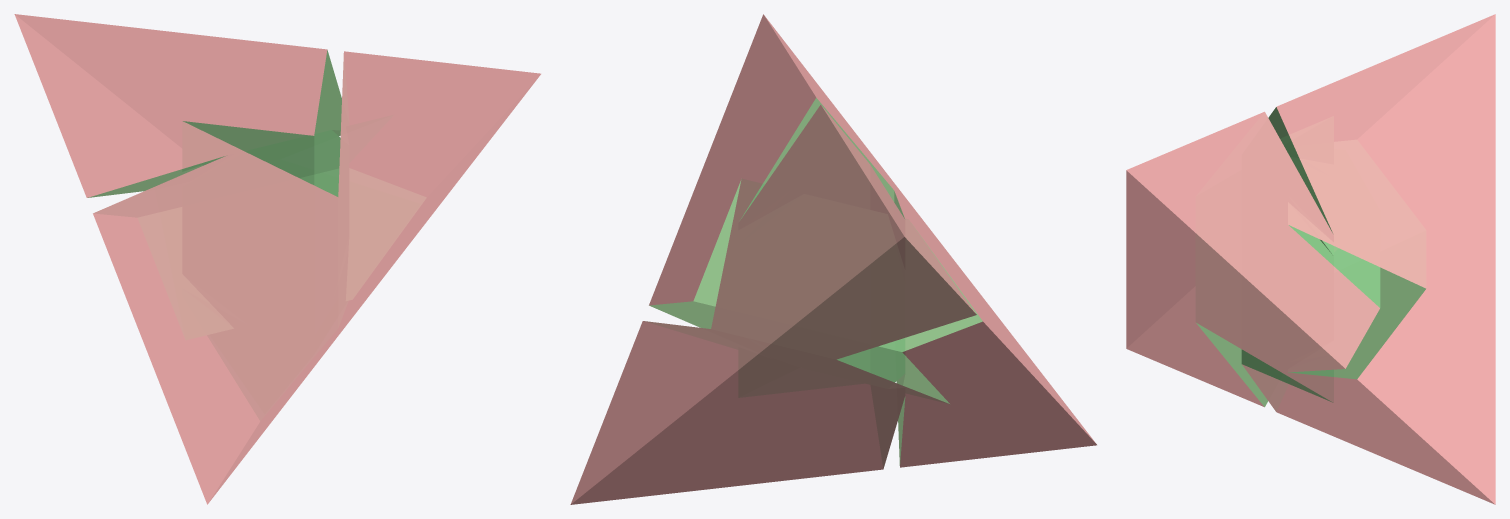
Rendered from HendecagonalDodecahedron.obj.
3 renders of one model, left to right at view 1: azimuth 30°, elevation 25°; view 2: azimuth 150°, elevation 25°; view 3: azimuth 270°, elevation 25°, orthographic. The views are drawn at different scales.
Size of the model in its own units: 9.6 by 9.6 by 9.6.
